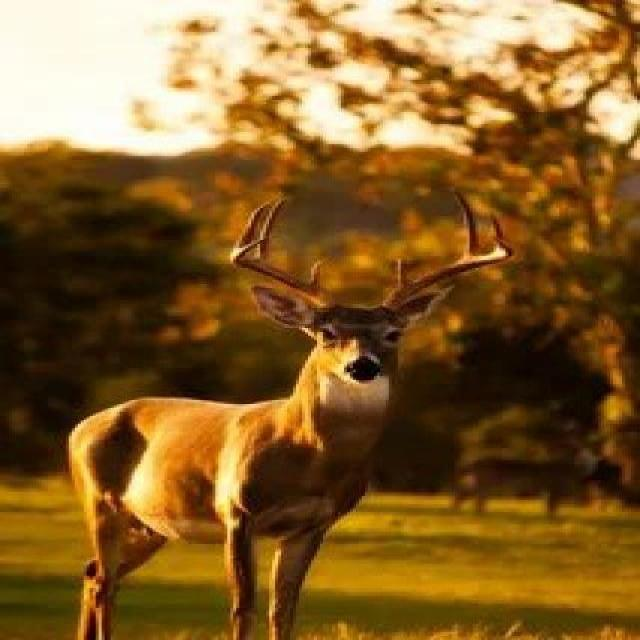deer: (131, 203, 532, 557)
